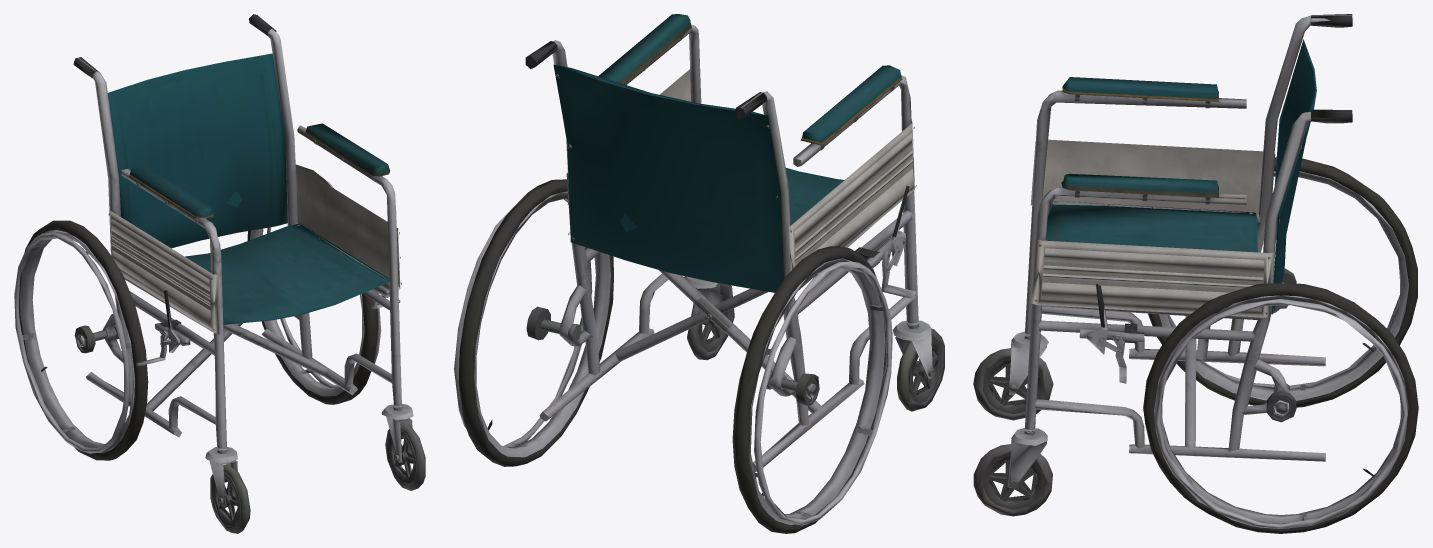
Rendered from wheelchair_01.glb.
3 renders of one model, left to right at view 1: azimuth 30°, elevation 25°; view 2: azimuth 150°, elevation 25°; view 3: azimuth 270°, elevation 25°, orthographic. The views are drawn at different scales.
Visible parts, largest first — view 1: wheelchair_01; view 2: wheelchair_01; view 3: wheelchair_01.
Part boxes in pixels (left/top/right/bottom): wheelchair_01: left=14, top=14, right=425, bottom=533; wheelchair_01: left=454, top=14, right=944, bottom=533; wheelchair_01: left=973, top=14, right=1418, bottom=533.
Bounding box in the file's own units: 0.824 × 1.1 × 1.09.
1 material, 1 textured.
